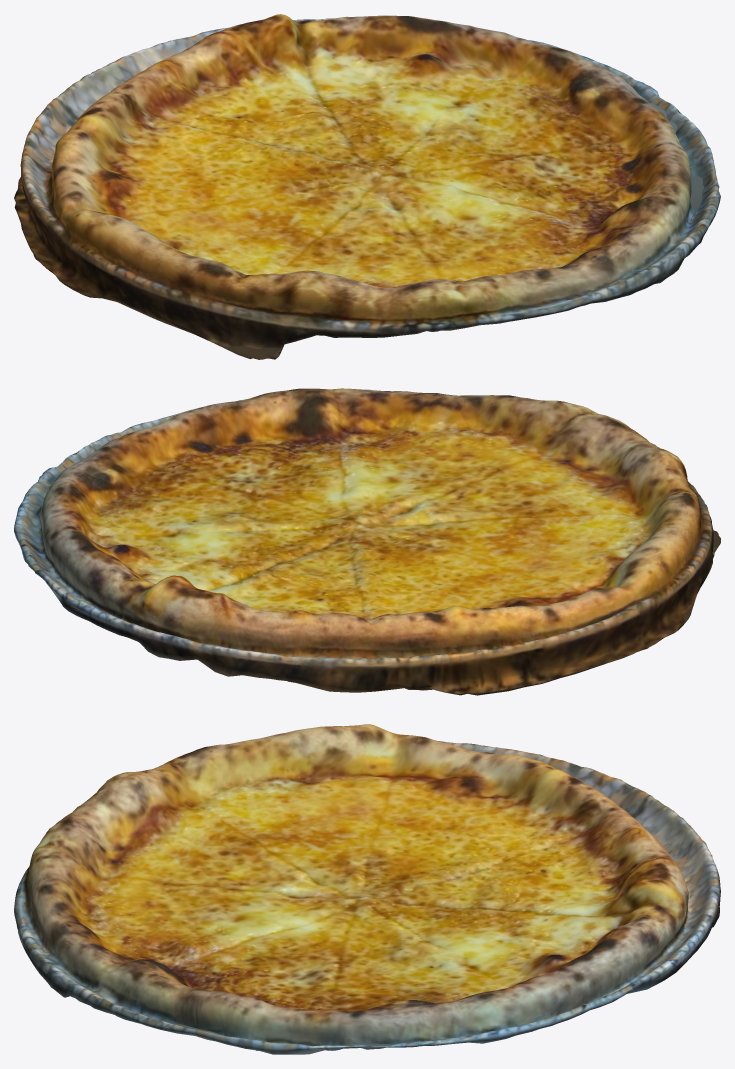
The model's file is margarita.glb.
3 views of the same model, one above another, from view 1: azimuth 30°, elevation 25°; view 2: azimuth 150°, elevation 25°; view 3: azimuth 270°, elevation 25° (orthographic).
Parts seen in each view (by area): view 1: ObjectCapture; view 2: ObjectCapture; view 3: ObjectCapture.
Boxes of the visible parts, left/top/right/bottom form: ObjectCapture: left=14, top=14, right=720, bottom=359; ObjectCapture: left=14, top=388, right=720, bottom=695; ObjectCapture: left=14, top=724, right=720, bottom=1054.
Bounding box in the file's own units: 0.7208 × 0.0882 × 0.7152.
1 material, 1 textured.
